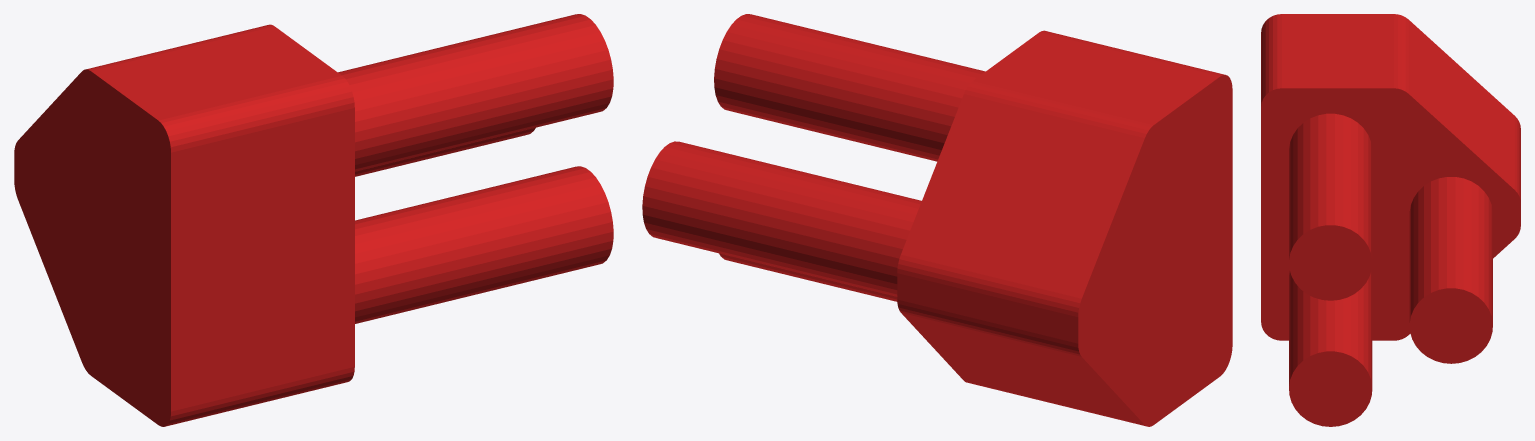
The model's file is peg_1_canonical_colored.obj.
3 views of the same model, side by side, from view 1: azimuth 30°, elevation 25°; view 2: azimuth 150°, elevation 25°; view 3: azimuth 270°, elevation 25° (orthographic). The views are drawn at different scales.
Bounding box in the file's own units: 0.1 × 0.0634 × 0.0591.
